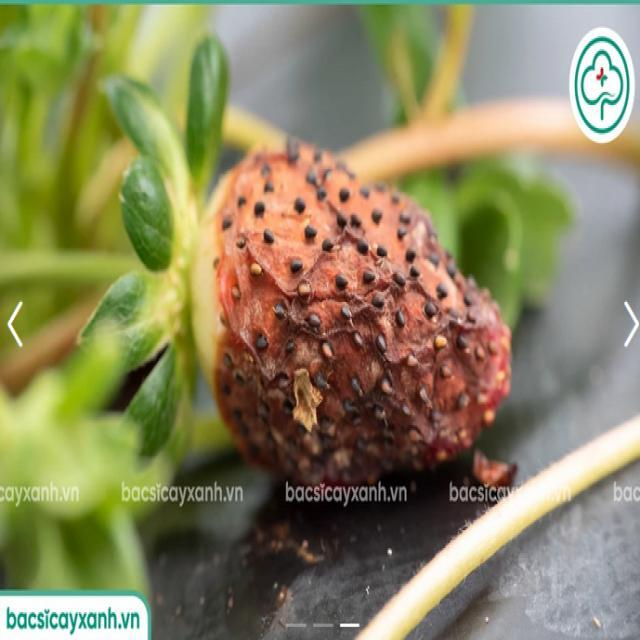Mancha negra Antracnosis: (197, 91, 510, 491)
